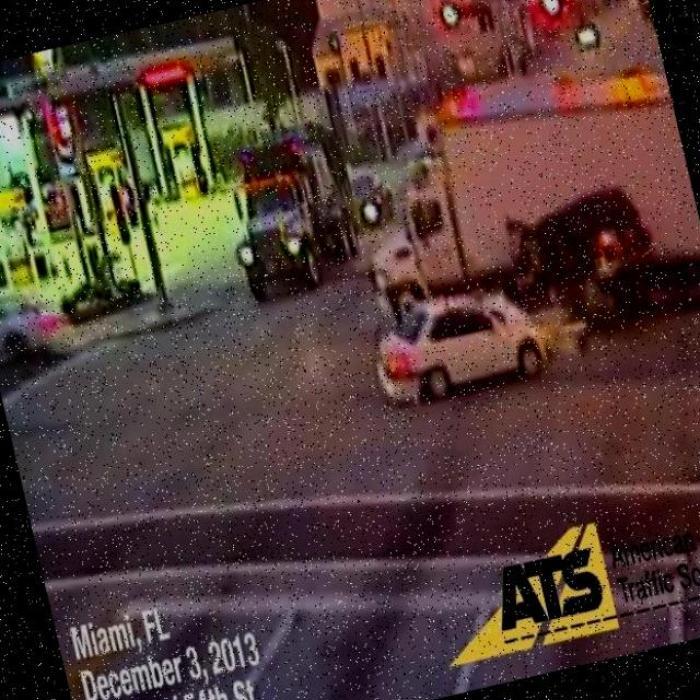Accident: (330, 32, 700, 369)
